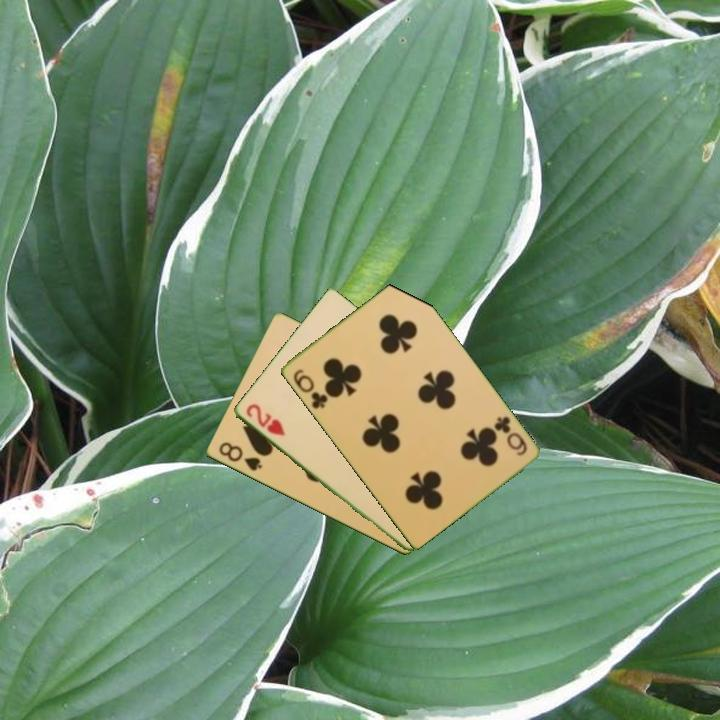2h: (242, 400, 288, 439)
6c: (289, 365, 330, 412), (490, 413, 530, 459)
8s: (215, 438, 264, 474)
